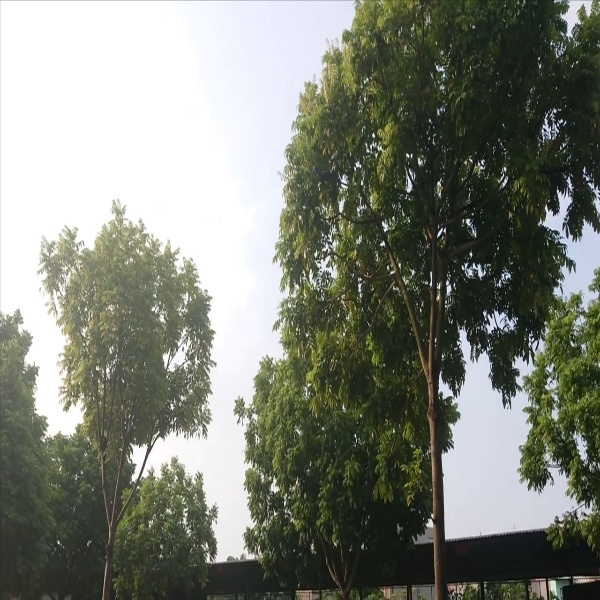drone: (310, 156, 347, 188)
